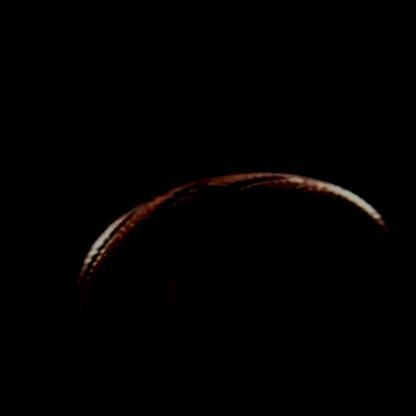basketball: (33, 138, 416, 415)
